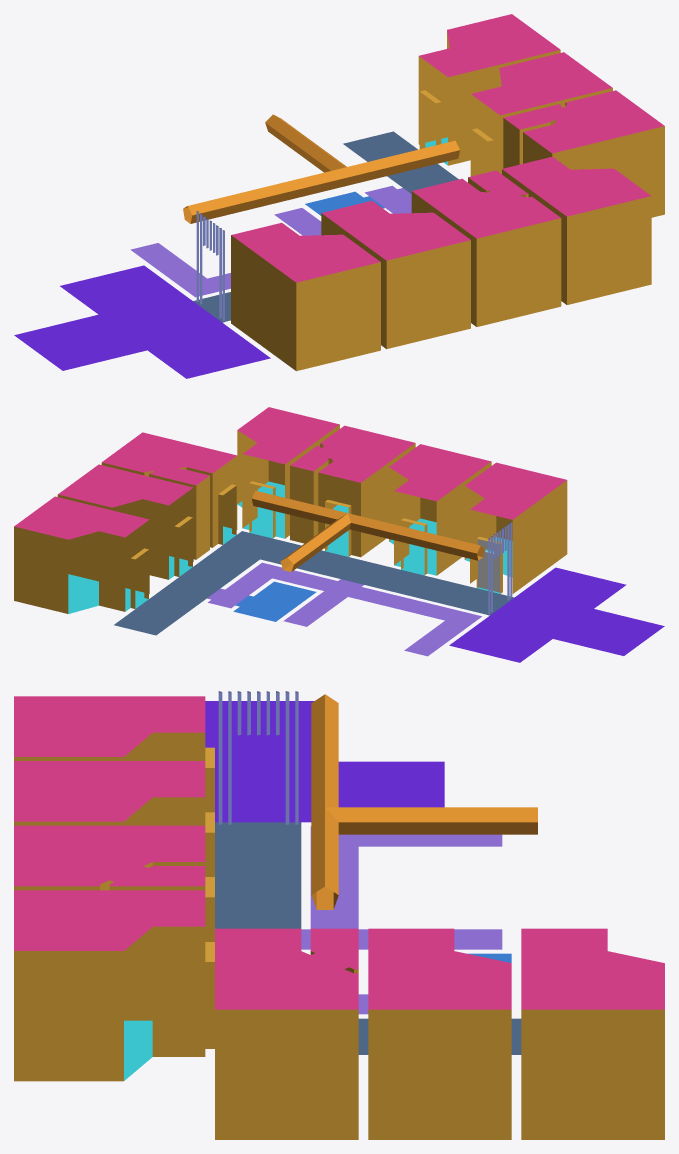
File: PrisonBlockLowSec.glb
3 views of the same model, one above another, from view 1: azimuth 30°, elevation 25°; view 2: azimuth 150°, elevation 25°; view 3: azimuth 270°, elevation 25° (orthographic). The views are drawn at different scales.
Visible parts, largest first — view 1: FakeCell02, BigCorridor, Cell01, FakeCell01, FakeCell03, Cell02, FakeCell05, FakeCell04, Pipe, SecurityCorridor, Corridor, Bars (+1 smaller); view 2: FakeCell05, Corridor, BigCorridor, FakeCell02, Cell01, FakeCell01, Cell02, FakeCell04, FakeCell03, SecurityCorridor, Pipe, Janitor (+2 smaller); view 3: FakeCell03, Cell02, FakeCell05, FakeCell04, BigCorridor, Cell01, FakeCell02, FakeCell01, Pipe, Corridor, SecurityCorridor, Bars.
Boxes of the visible parts, x1,y1,x2,y2 form: FakeCell02: [231, 222, 380, 371]; BigCorridor: [14, 265, 270, 378]; Cell01: [411, 170, 561, 326]; FakeCell01: [321, 200, 470, 349]; FakeCell03: [502, 156, 651, 304]; Cell02: [503, 90, 664, 217]; FakeCell05: [418, 14, 560, 165]; FakeCell04: [470, 52, 612, 176]; Pipe: [183, 114, 459, 223]; SecurityCorridor: [130, 185, 411, 297]; Corridor: [193, 131, 458, 322]; Bars: [196, 211, 224, 322]; FakeCell05: [14, 496, 149, 613]; Corridor: [114, 531, 514, 635]; BigCorridor: [449, 567, 664, 662]; FakeCell02: [464, 462, 567, 593]; Cell01: [290, 425, 415, 557]; FakeCell01: [389, 444, 491, 575]; Cell02: [101, 432, 237, 559]; FakeCell04: [57, 464, 193, 579]; FakeCell03: [237, 407, 339, 538]; SecurityCorridor: [207, 562, 481, 656]; Pipe: [252, 491, 484, 571]; Janitor: [233, 581, 316, 621]; FakeCell03: [14, 890, 214, 1081]; Cell02: [215, 928, 358, 1139]; FakeCell05: [521, 928, 664, 1139]; FakeCell04: [368, 928, 511, 1139]; BigCorridor: [205, 701, 444, 822]; Cell01: [14, 825, 214, 941]; FakeCell02: [14, 696, 214, 812]; FakeCell01: [14, 761, 214, 876]; Pipe: [311, 694, 537, 909]; Corridor: [215, 822, 521, 1054]; SecurityCorridor: [301, 826, 502, 1014]; Bars: [218, 691, 298, 824].
Size of what is drawn, in the model's own units: 21.7 by 3.1 by 13.6.
